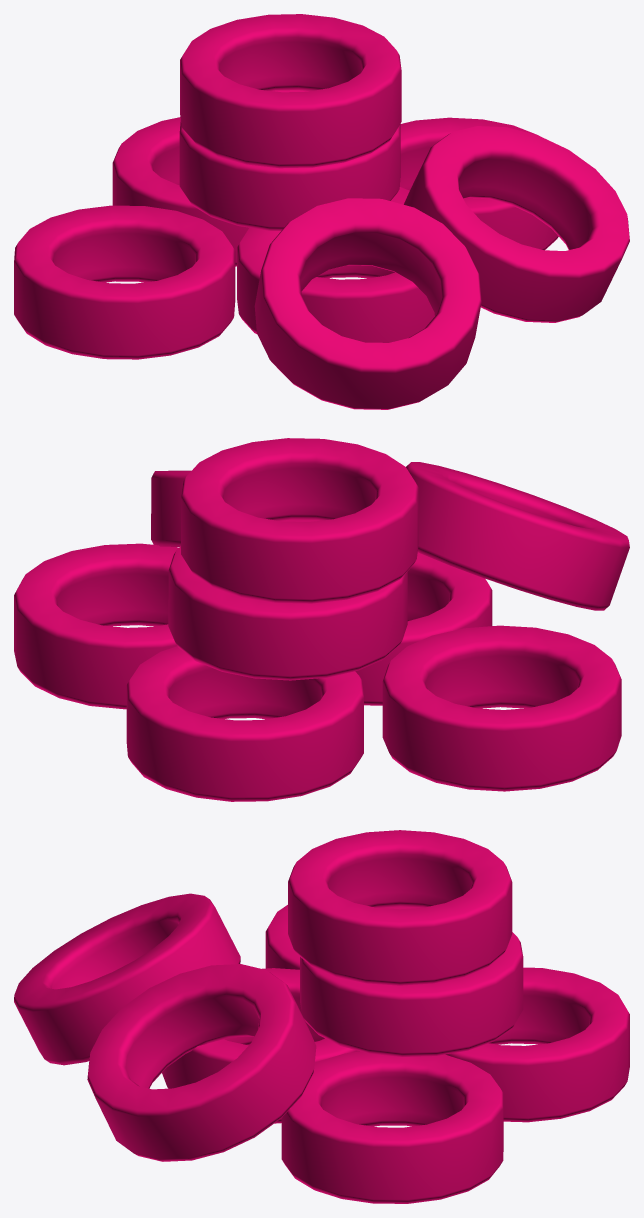
File: Tire_Pile_01_Lod0.fbx
3 renders of one model, top to bottom at view 1: azimuth 30°, elevation 25°; view 2: azimuth 150°, elevation 25°; view 3: azimuth 270°, elevation 25°, orthographic. The views are drawn at different scales.
Parts seen in each view (by area): view 1: Tire_Pile_01_Lod0; view 2: Tire_Pile_01_Lod0; view 3: Tire_Pile_01_Lod0.
Boxes of the visible parts, box(x1,y1,x2,y2) form: Tire_Pile_01_Lod0: box(14, 14, 629, 409); Tire_Pile_01_Lod0: box(14, 438, 629, 801); Tire_Pile_01_Lod0: box(14, 830, 629, 1203).
Size of the model in its own units: 212 by 78.26 by 213.
